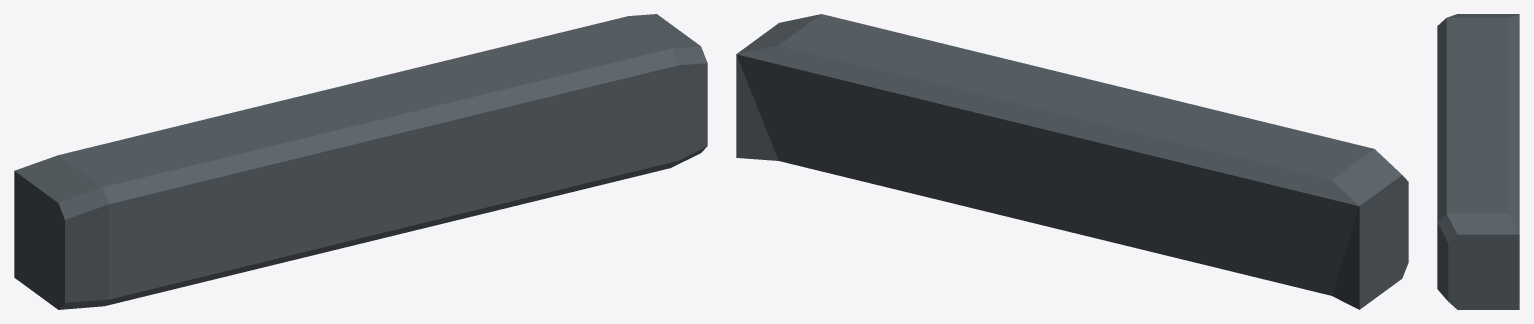
File: SM_Bld_Floor_Large_Walkway_Endcap_01.fbx
The picture shows the model from 3 angles, left to right: view 1: azimuth 30°, elevation 25°; view 2: azimuth 150°, elevation 25°; view 3: azimuth 270°, elevation 25°; orthographic projection. The views are drawn at different scales.
Visible parts, largest first — view 1: SM_Bld_Floor_Large_Walkway_Endcap_01; view 2: SM_Bld_Floor_Large_Walkway_Endcap_01; view 3: SM_Bld_Floor_Large_Walkway_Endcap_01.
Boxes of the visible parts, x1,y1,x2,y2 form: SM_Bld_Floor_Large_Walkway_Endcap_01: (14, 14, 707, 309); SM_Bld_Floor_Large_Walkway_Endcap_01: (736, 14, 1408, 309); SM_Bld_Floor_Large_Walkway_Endcap_01: (1437, 14, 1519, 309).
Bounding box in the file's own units: 564 × 99.94 × 88.77.
Materials: 1 (1 with a texture image).
